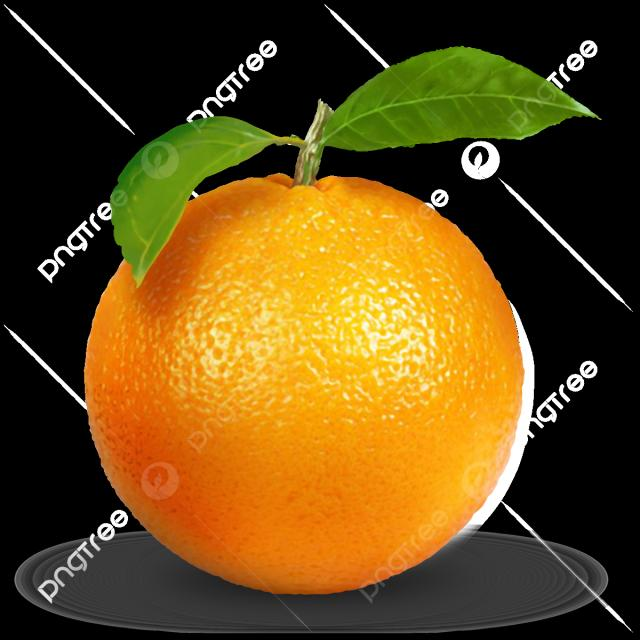orange: (86, 177, 523, 596)
